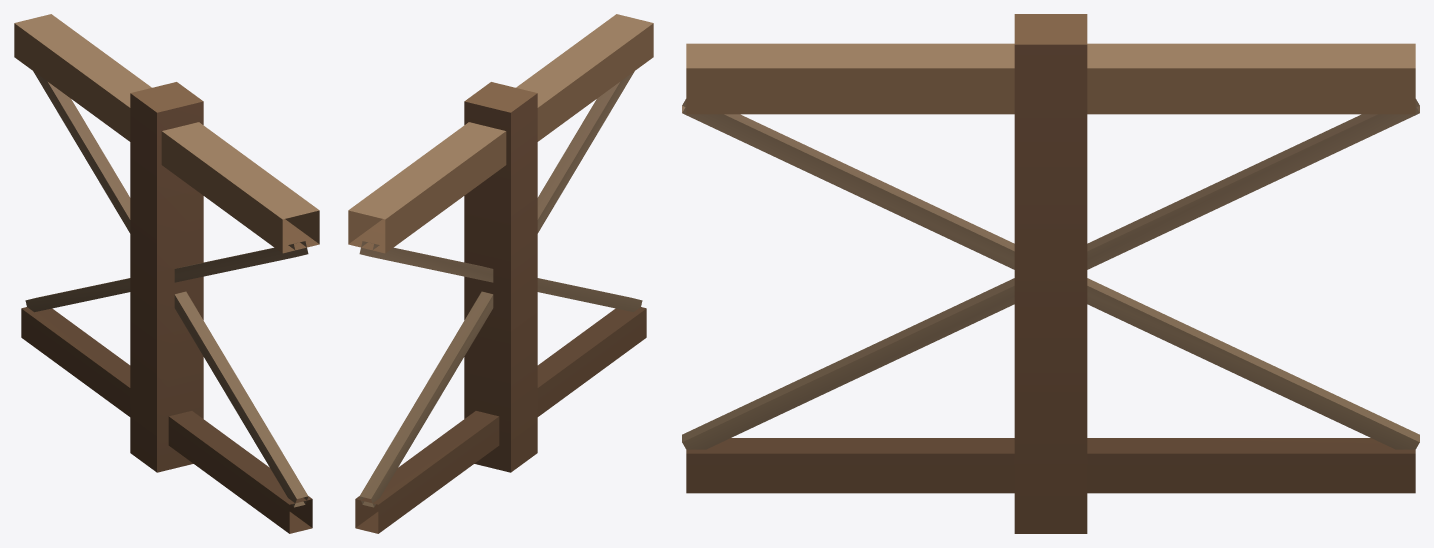
Rendered from custom-passarela-guarda.glb.
The picture shows the model from 3 angles, left to right: view 1: azimuth 30°, elevation 25°; view 2: azimuth 150°, elevation 25°; view 3: azimuth 270°, elevation 25°; orthographic projection. The views are drawn at different scales.
Visible parts, largest first — view 1: passarela-guarda; view 2: passarela-guarda; view 3: passarela-guarda.
Part boxes in pixels (left/top/right/bottom): passarela-guarda: left=14, top=14, right=319, bottom=533; passarela-guarda: left=348, top=14, right=653, bottom=533; passarela-guarda: left=682, top=14, right=1419, bottom=533.
Size of the model in its own units: 0.2 by 1.48 by 2.02.
